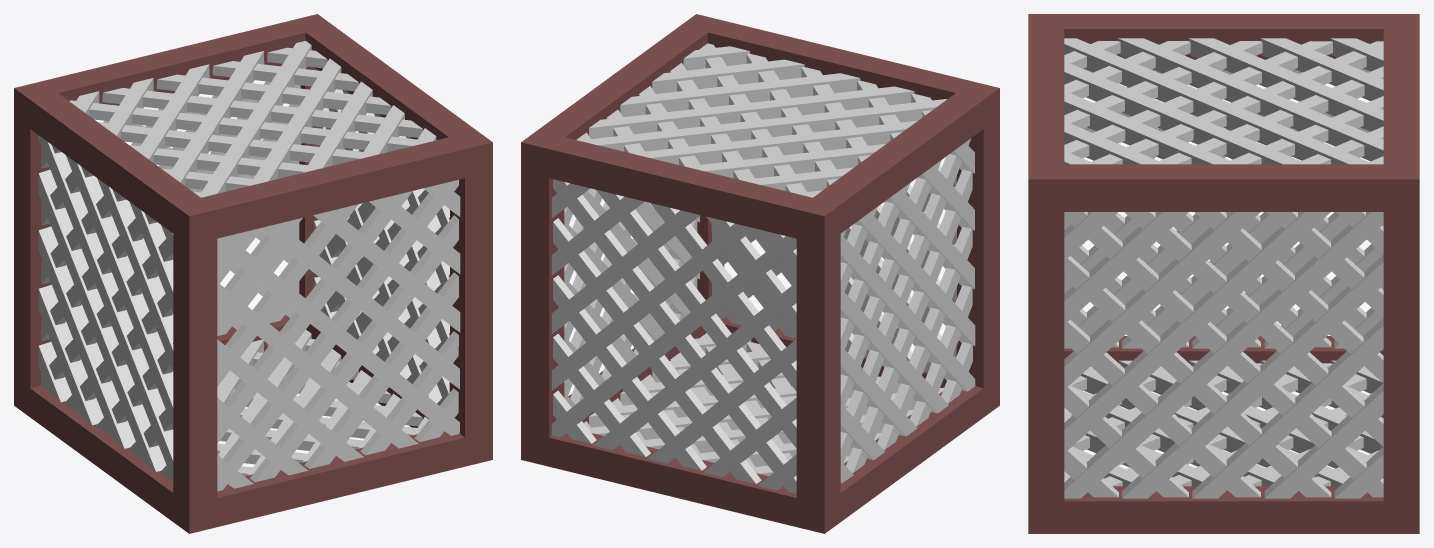
Rendered from LavaBox.fbx.
3 views of the same model, side by side, from view 1: azimuth 30°, elevation 25°; view 2: azimuth 150°, elevation 25°; view 3: azimuth 270°, elevation 25° (orthographic). The views are drawn at different scales.
Parts seen in each view (by area): view 1: pCube20; view 2: pCube20; view 3: pCube20.
Part boxes in pixels (box(x1,y1,x2,y2)): pCube20: box(14, 14, 492, 533); pCube20: box(521, 14, 999, 533); pCube20: box(1028, 14, 1419, 533).
Bounding box in the file's own units: 210 × 210 × 210.
